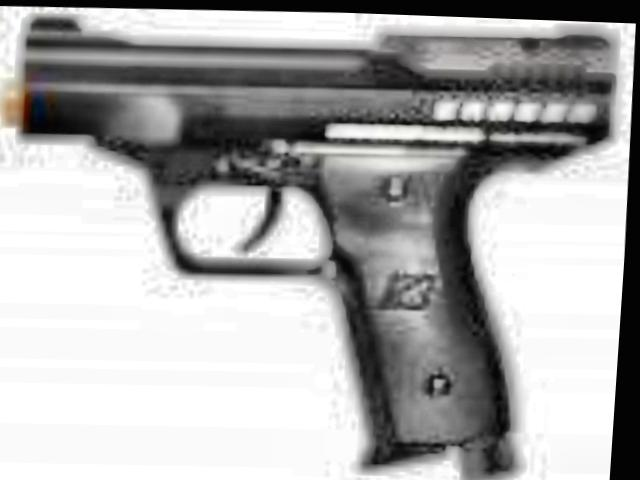pistol: (0, 0, 628, 480)
